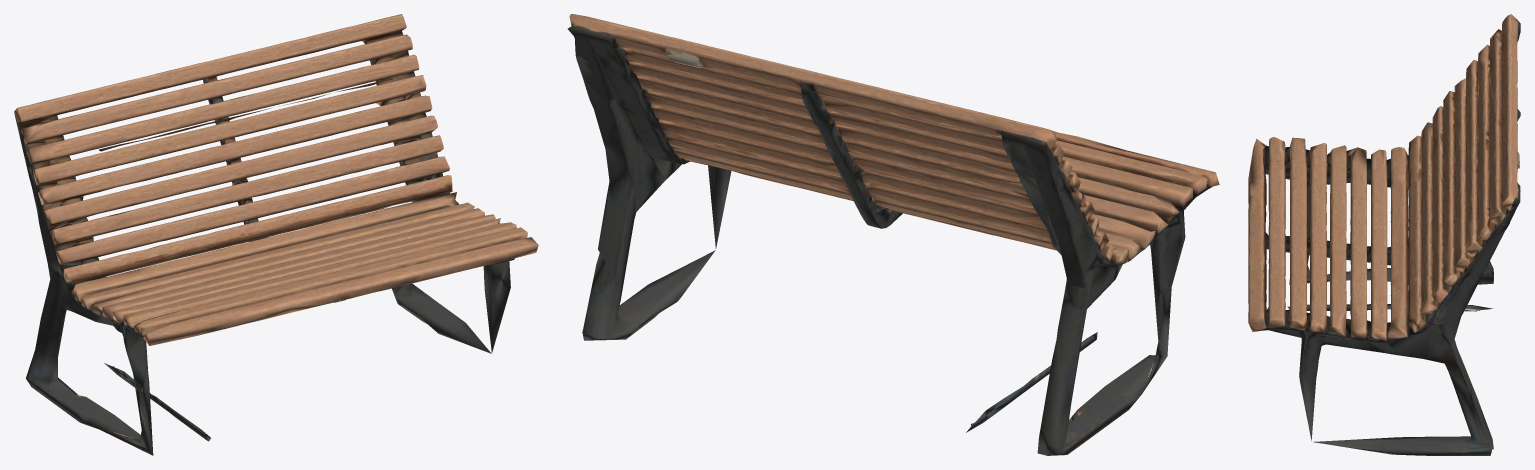
The model's file is benchslat_lod1.glb.
The picture shows the model from 3 angles, left to right: view 1: azimuth 30°, elevation 25°; view 2: azimuth 150°, elevation 25°; view 3: azimuth 270°, elevation 25°; orthographic projection. The views are drawn at different scales.
Parts seen in each view (by area): view 1: tripo_node_187c0388-e9b6-4828-8fcf-9b74c34d3c89; view 2: tripo_node_187c0388-e9b6-4828-8fcf-9b74c34d3c89; view 3: tripo_node_187c0388-e9b6-4828-8fcf-9b74c34d3c89.
Part boxes in pixels (box(x1,y1,x2,y2)): tripo_node_187c0388-e9b6-4828-8fcf-9b74c34d3c89: box(14, 14, 538, 455); tripo_node_187c0388-e9b6-4828-8fcf-9b74c34d3c89: box(567, 14, 1219, 455); tripo_node_187c0388-e9b6-4828-8fcf-9b74c34d3c89: box(1248, 14, 1520, 455).
Size of the model in its own units: 1.13 by 0.7499 by 0.7093.
Materials: 1 (1 with a texture image).
